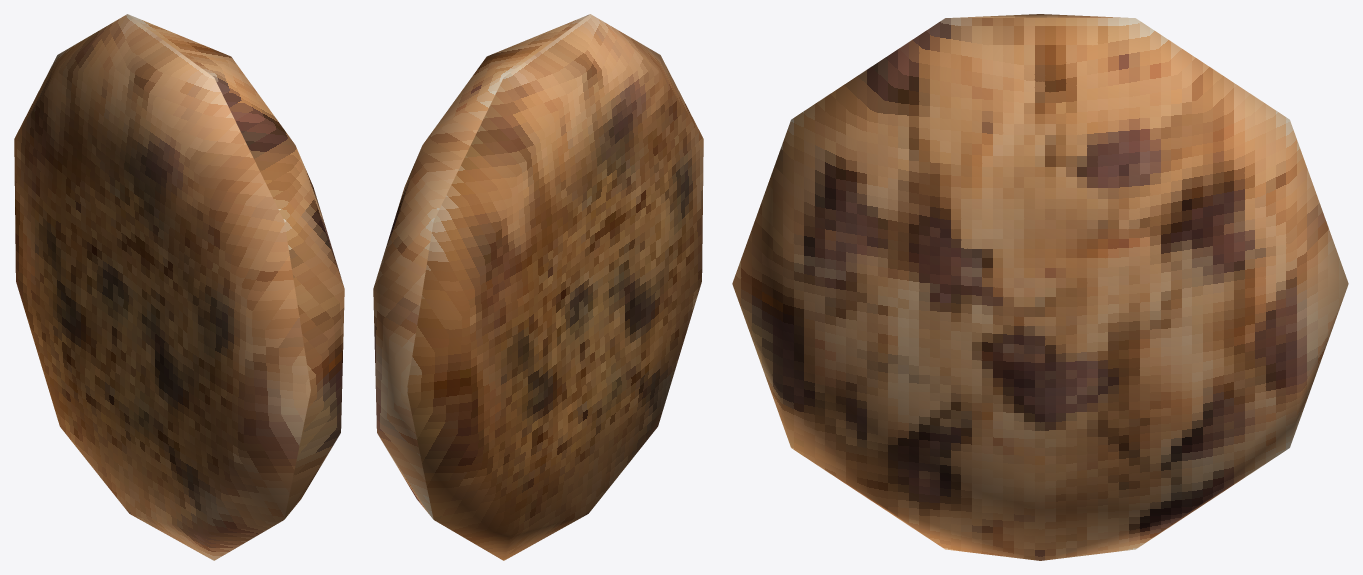
The model's file is Cookie.glb.
The picture shows the model from 3 angles, left to right: view 1: azimuth 30°, elevation 25°; view 2: azimuth 150°, elevation 25°; view 3: azimuth 270°, elevation 25°; orthographic projection. The views are drawn at different scales.
Visible parts, largest first — view 1: Icosphere; view 2: Icosphere; view 3: Icosphere.
Boxes of the visible parts, box(x1,y1,x2,y2) form: Icosphere: box(14, 14, 344, 560); Icosphere: box(373, 14, 703, 560); Icosphere: box(732, 14, 1348, 560).
Size of the model in its own units: 0.6761 by 1.9 by 2.
Materials: 1 (1 with a texture image).
